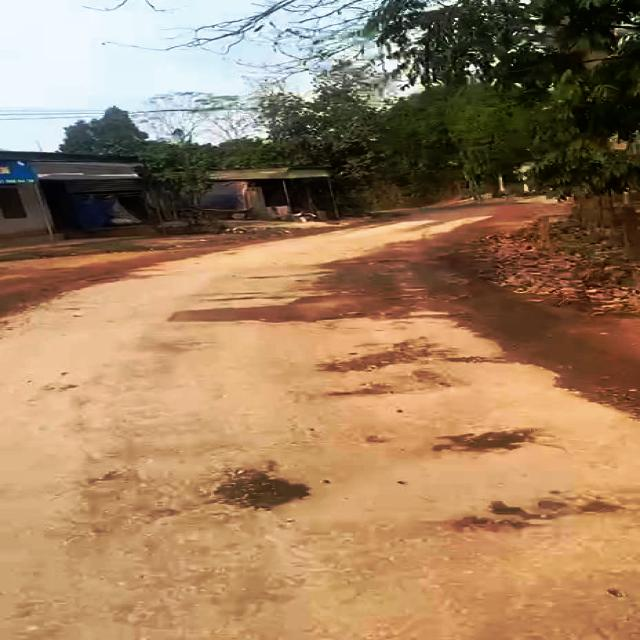pothole: (168, 293, 408, 327), (210, 467, 313, 513), (314, 340, 429, 375)
